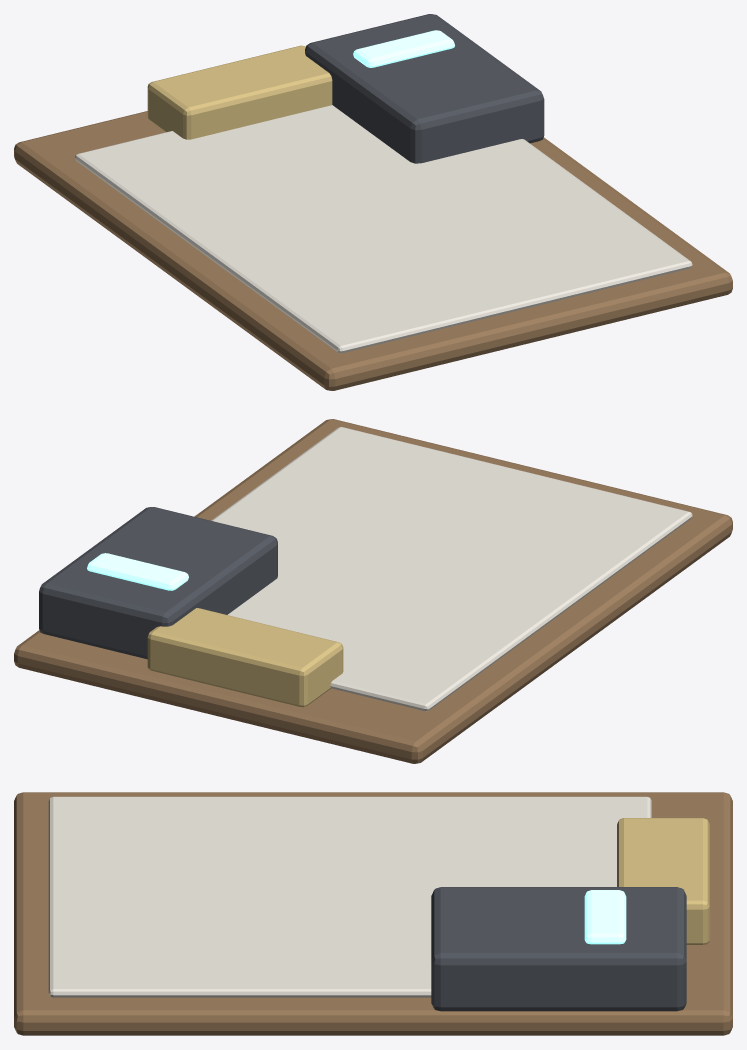
Rendered from scanner_clipboard.glb.
3 renders of one model, top to bottom at view 1: azimuth 30°, elevation 25°; view 2: azimuth 150°, elevation 25°; view 3: azimuth 270°, elevation 25°, orthographic. The views are drawn at different scales.
Parts seen in each view (by area): view 1: Sheet, Board, SensorUnit, BrassClip, LEDStrip; view 2: Sheet, Board, SensorUnit, BrassClip, LEDStrip; view 3: Sheet, Board, SensorUnit, BrassClip, LEDStrip.
Part boxes in pixels (x1=…): Sheet: x1=75, y1=105, x2=692, y2=353; Board: x1=14, y1=111, x2=732, y2=390; SensorUnit: x1=305, y1=14, x2=544, y2=163; BrassClip: x1=147, y1=45, x2=332, y2=139; LEDStrip: x1=353, y1=30, x2=454, y2=67; Sheet: x1=211, y1=427, x2=692, y2=711; Board: x1=14, y1=419, x2=732, y2=763; SensorUnit: x1=39, y1=507, x2=277, y2=659; BrassClip: x1=147, y1=608, x2=343, y2=707; LEDStrip: x1=87, y1=553, x2=188, y2=590; Sheet: x1=48, y1=796, x2=651, y2=997; Board: x1=14, y1=792, x2=732, y2=1035; SensorUnit: x1=431, y1=887, x2=686, y2=1011; BrassClip: x1=617, y1=818, x2=709, y2=944; LEDStrip: x1=584, y1=890, x2=626, y2=944.
Size of the model in its own units: 0.23 by 0.042 by 0.31.
